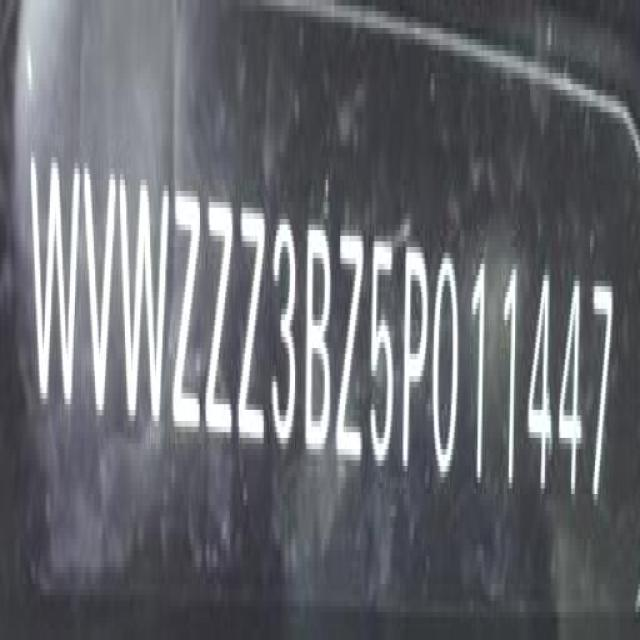0: (433, 246, 461, 492)
1: (467, 253, 488, 497), (501, 258, 521, 497)
3: (272, 208, 299, 461)
4: (553, 270, 584, 506), (527, 270, 554, 500)
5: (370, 228, 398, 476)
7: (590, 281, 620, 515)
8: (305, 218, 334, 468)
P: (402, 242, 429, 480)
V: (82, 160, 118, 430)
W: (119, 164, 170, 438), (32, 150, 78, 428)
Z: (174, 176, 204, 449), (205, 185, 235, 454), (336, 225, 368, 474), (237, 192, 267, 457)
